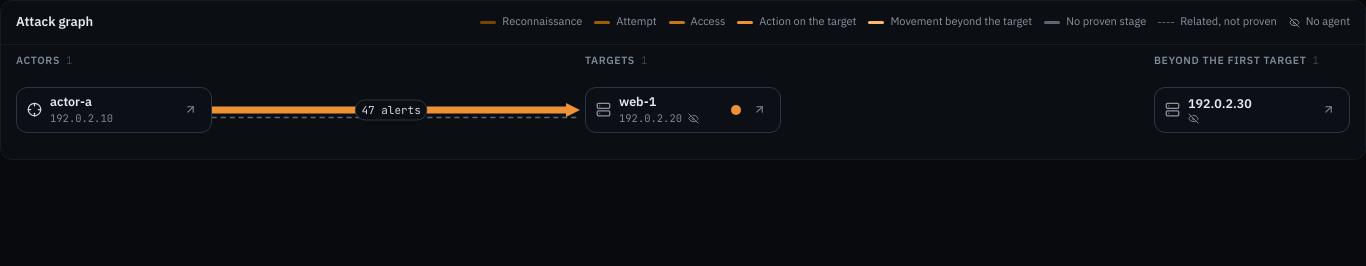
Test: AttackGraph › states the alerts of a machine in its tooltip
This screenshot has width=1366, height=266.
Step 1. Focus the button with aria-label "web-1: show its alerts" → (660, 110), box [596,94,723,125]
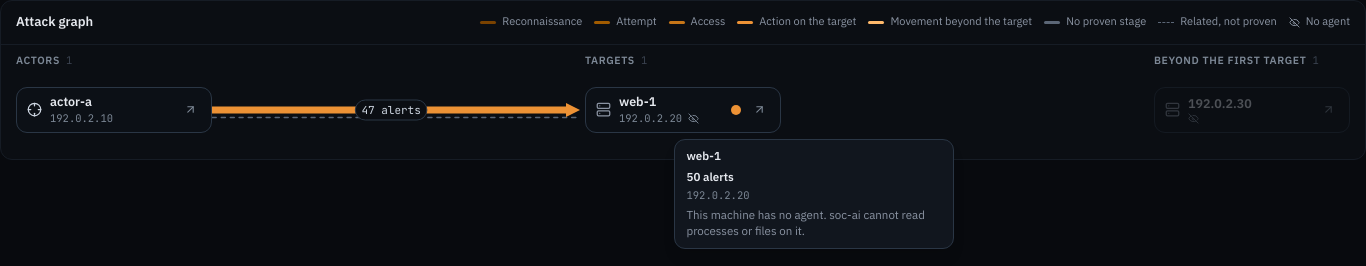
Now the text with test id "node-tip-count" reads "50 alerts", box [686,169,734,184]
